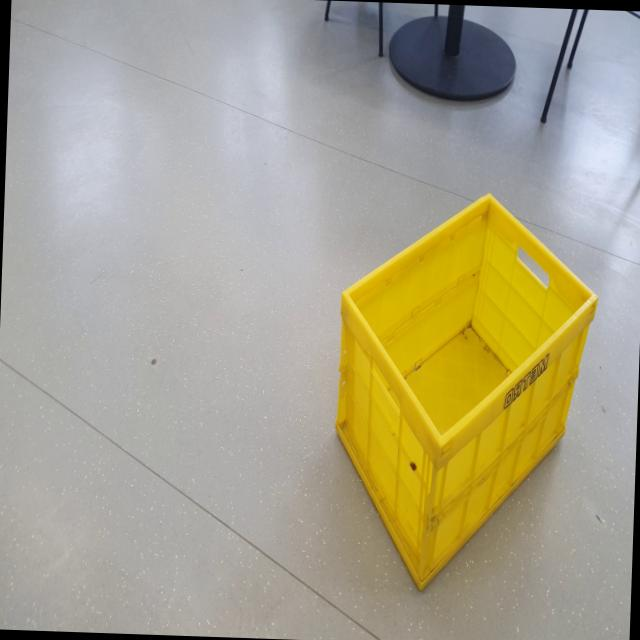box: (325, 175, 606, 603)
